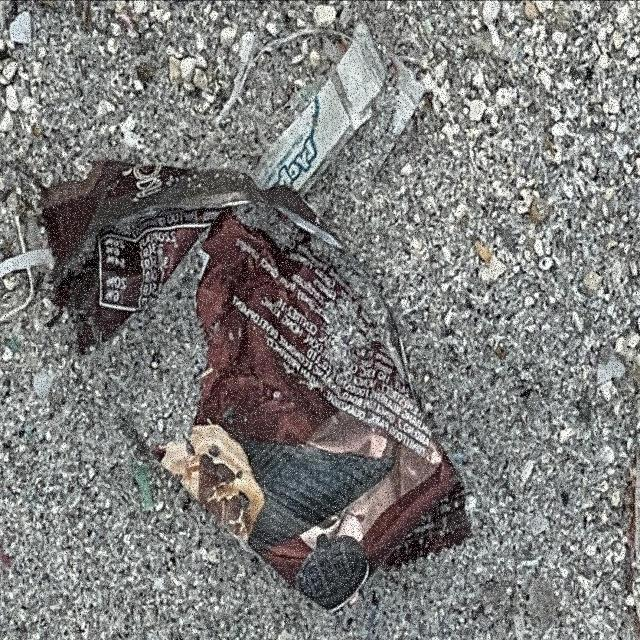plastic_waste: (33, 143, 474, 617)
